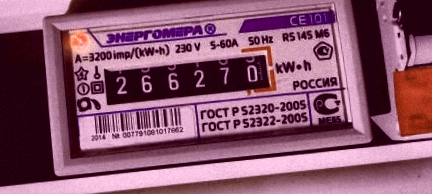0: (244, 62, 258, 84)
2: (112, 73, 128, 95), (191, 67, 205, 89)
6: (138, 73, 153, 94), (164, 70, 179, 90)
7: (216, 64, 231, 86)
screen: (92, 40, 283, 115)
